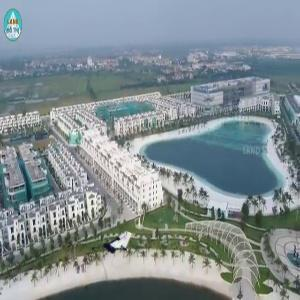drone: (88, 226, 131, 269)
